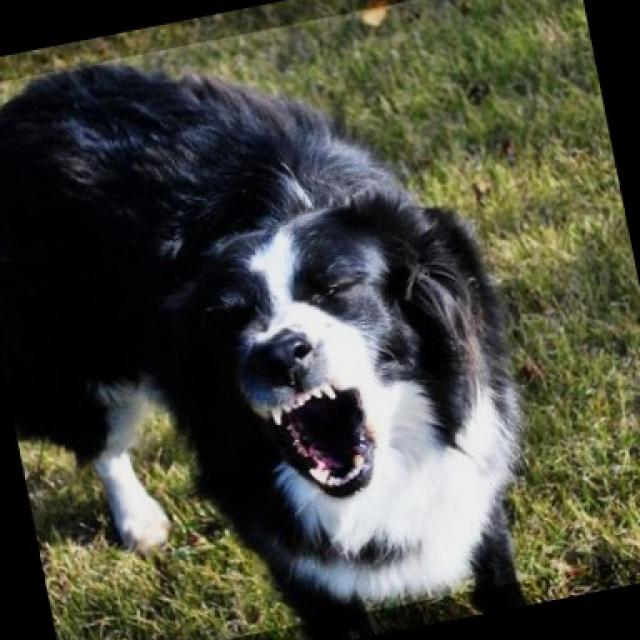angry: (0, 71, 545, 640)
